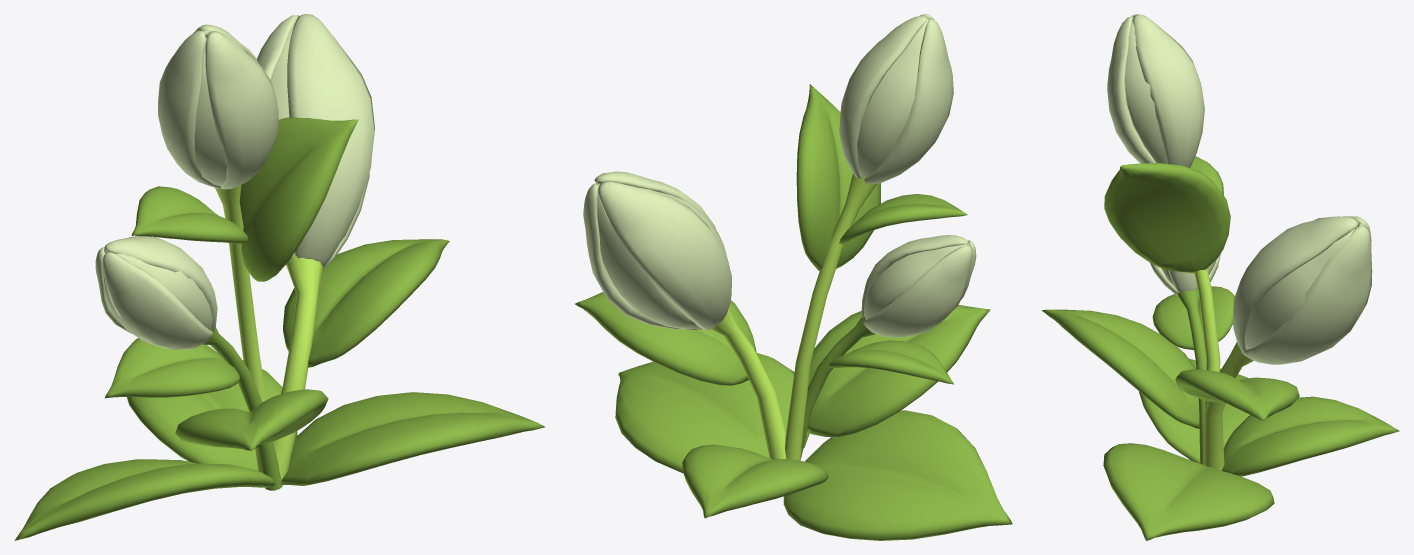
Rendered from Lily_2.fbx.
The picture shows the model from 3 angles, left to right: view 1: azimuth 30°, elevation 25°; view 2: azimuth 150°, elevation 25°; view 3: azimuth 270°, elevation 25°; orthographic projection. The views are drawn at different scales.
Parts seen in each view (by area): view 1: Leaf.007, Plane.038, Leaf.010, Leaf.011, Leaf.006, Plane.050, Leaf.012, Plane.047, Leaf.008, Leaf.009, Plane.049, Leaf.013 (+8 smaller); view 2: Leaf.006, Leaf.007, Plane.037, Leaf.008, Leaf.010, Leaf.009, Leaf.011, Plane.049, Plane.046, Plane.041, NurbsPath.041, Plane.048 (+9 smaller); view 3: Leaf.010, Leaf.007, Leaf.009, Plane.036, Leaf.008, Plane.048, Plane.038, Leaf.011, Plane.040, Plane.050, Leaf.012, Plane.044 (+6 smaller).
Boxes of the visible parts, x1,y1,x2,y2 form: Leaf.007: (280,392,545,485); Plane.038: (287,14,374,268); Leaf.010: (239,117,358,281); Leaf.011: (283,239,449,367); Leaf.006: (14,459,275,540); Plane.050: (205,31,278,189); Leaf.012: (105,338,240,398); Plane.047: (103,252,212,349); Leaf.008: (175,389,328,450); Leaf.009: (127,360,297,470); Plane.049: (158,31,221,188); Leaf.013: (131,186,247,244); Leaf.006: (783,410,1012,540); Leaf.007: (615,353,809,473); Plane.037: (598,181,731,330); Leaf.008: (807,304,990,437); Leaf.010: (796,84,880,271); Leaf.009: (682,444,828,518); Leaf.011: (574,292,756,385); Plane.049: (864,18,953,183); Plane.046: (863,245,972,336); Plane.041: (857,17,929,177); NurbsPath.041: (785,174,877,460); Plane.048: (839,15,927,178); Leaf.010: (1104,163,1230,273); Leaf.007: (1103,443,1274,540); Leaf.009: (1222,396,1399,476); Plane.036: (1243,225,1372,364); Leaf.008: (1041,309,1199,428); Plane.048: (1133,14,1204,167); Plane.038: (1233,216,1358,353); Leaf.011: (1175,369,1299,421); Plane.040: (1244,228,1355,349); Plane.050: (1107,16,1155,163); Leaf.012: (1152,286,1234,349); Plane.044: (1125,21,1165,163).
Bounding box in the file's own units: 0.6905 × 0.5446 × 0.7108.
